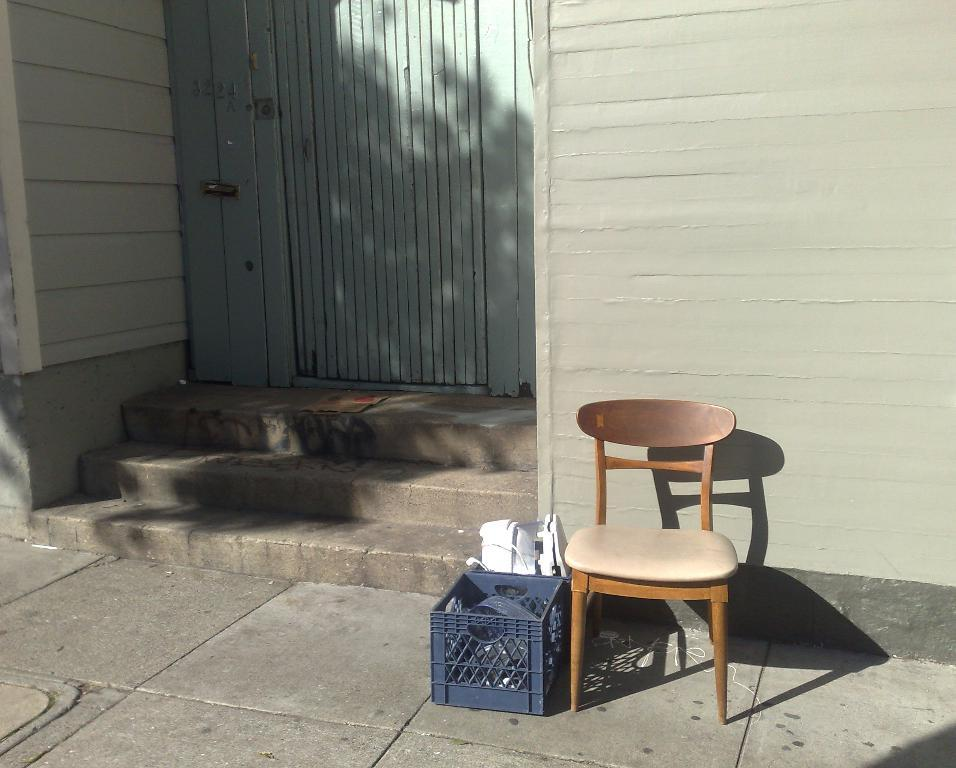Chair: (563, 394, 737, 719)
